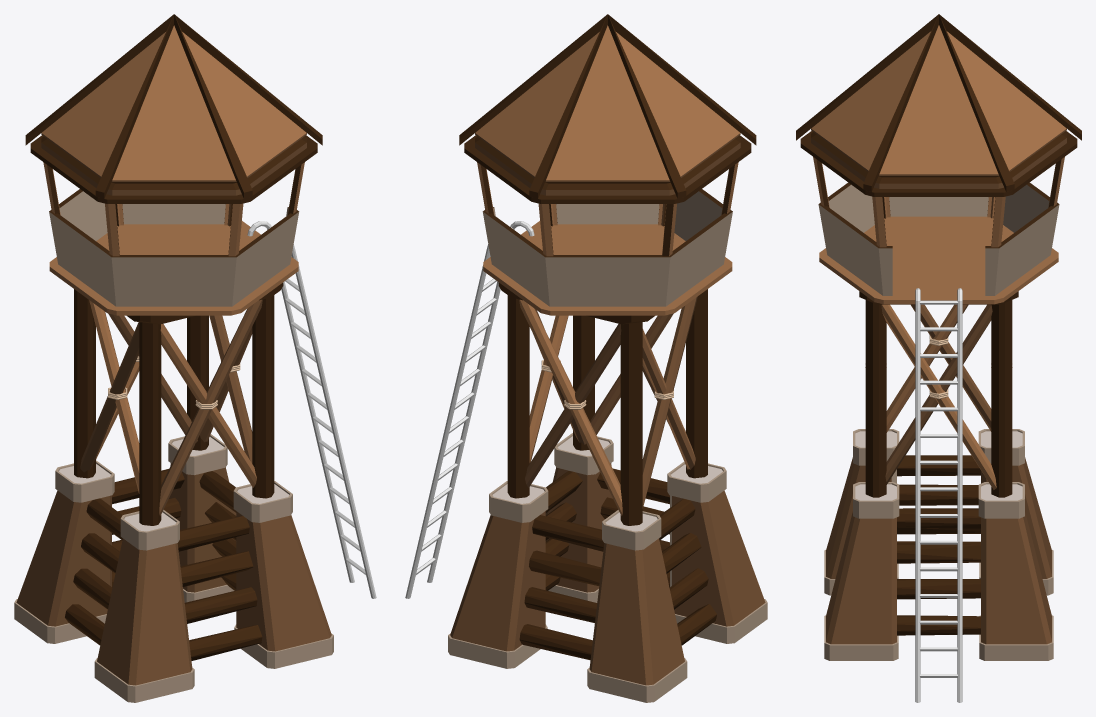
File: watch+tower03.fbx
The picture shows the model from 3 angles, left to right: view 1: azimuth 30°, elevation 25°; view 2: azimuth 150°, elevation 25°; view 3: azimuth 270°, elevation 25°; orthographic projection. The views are drawn at different scales.
Visible parts, largest first — view 1: 03; view 2: 03; view 3: 03.
Part boxes in pixels (<box>): 03: <box>14,14,376,702</box>; 03: <box>405,14,767,702</box>; 03: <box>796,14,1081,702</box>.
Bounding box in the file's own units: 1001 × 1952 × 844.
